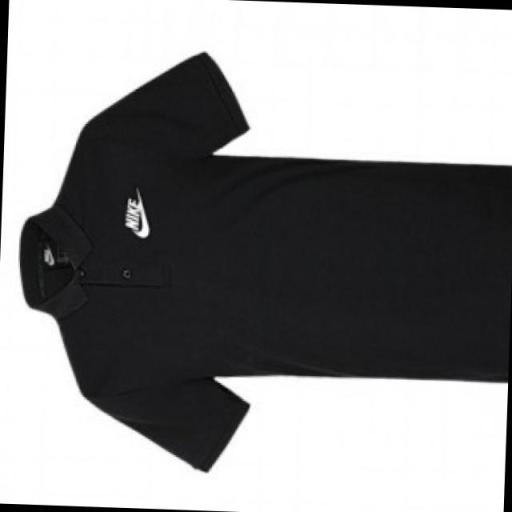Nike: (134, 192, 153, 238), (124, 196, 141, 232)
